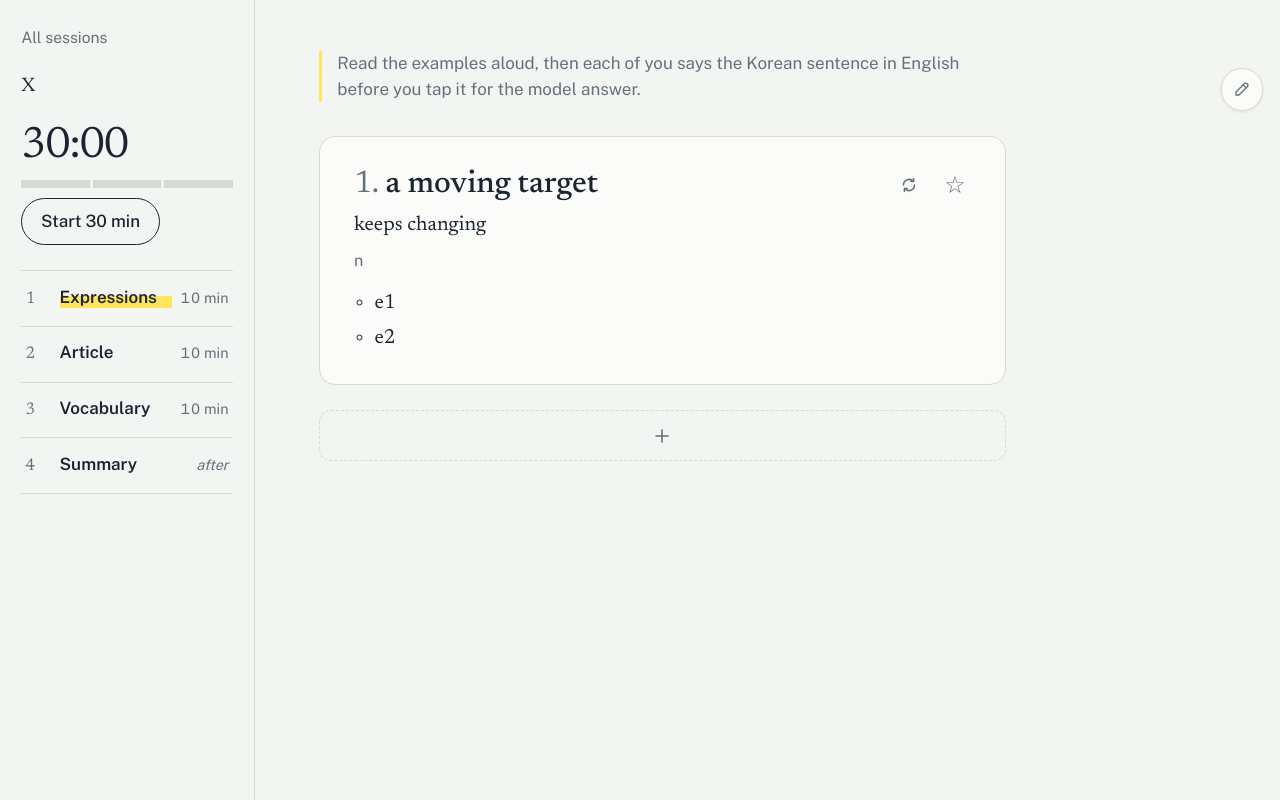
SessionPage › swaps an expression in place for the one the server picked
The width and height of the screenshot is (1280, 800).
Click the button named "Swap a moving target for another expression". click: click(909, 185)
box: [896, 172, 922, 198]
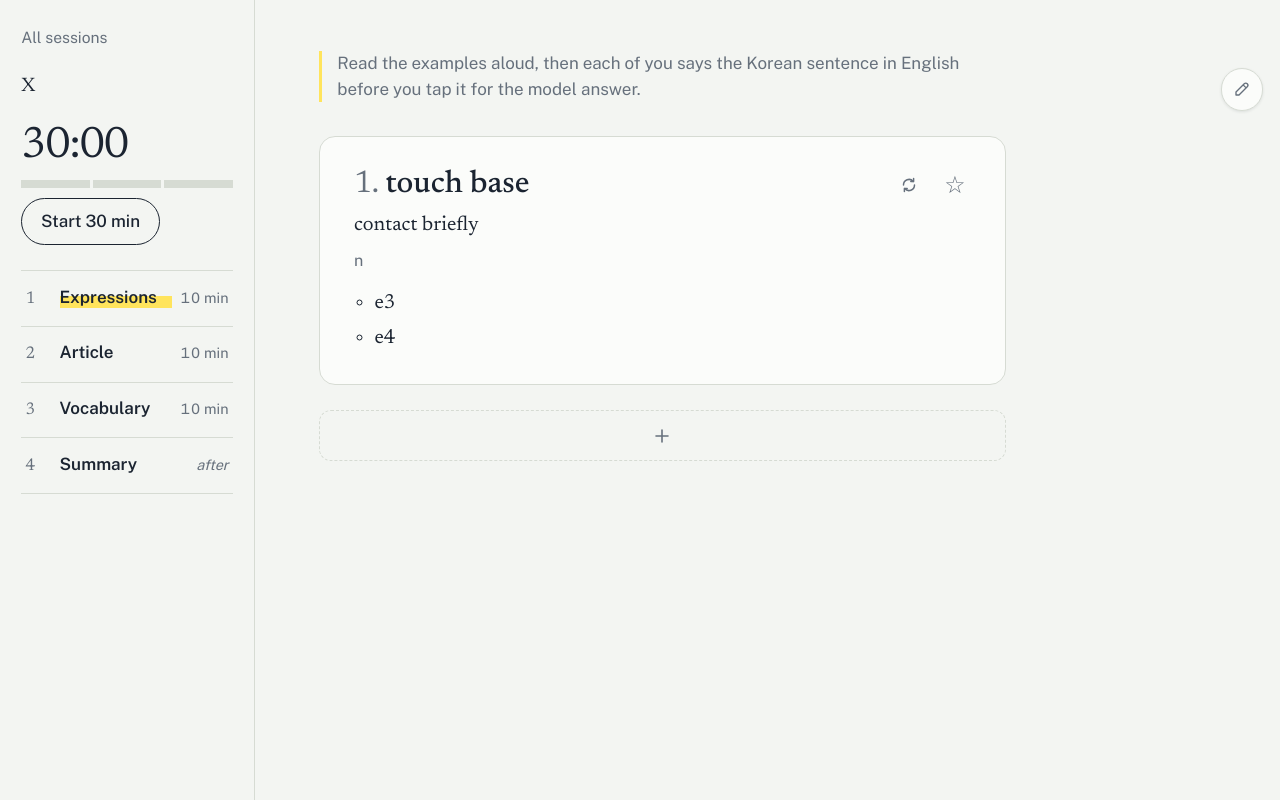
Expected: the heading "touch base" is shown, [385, 169, 530, 200]
Expected: the heading "a moving target" is gone
